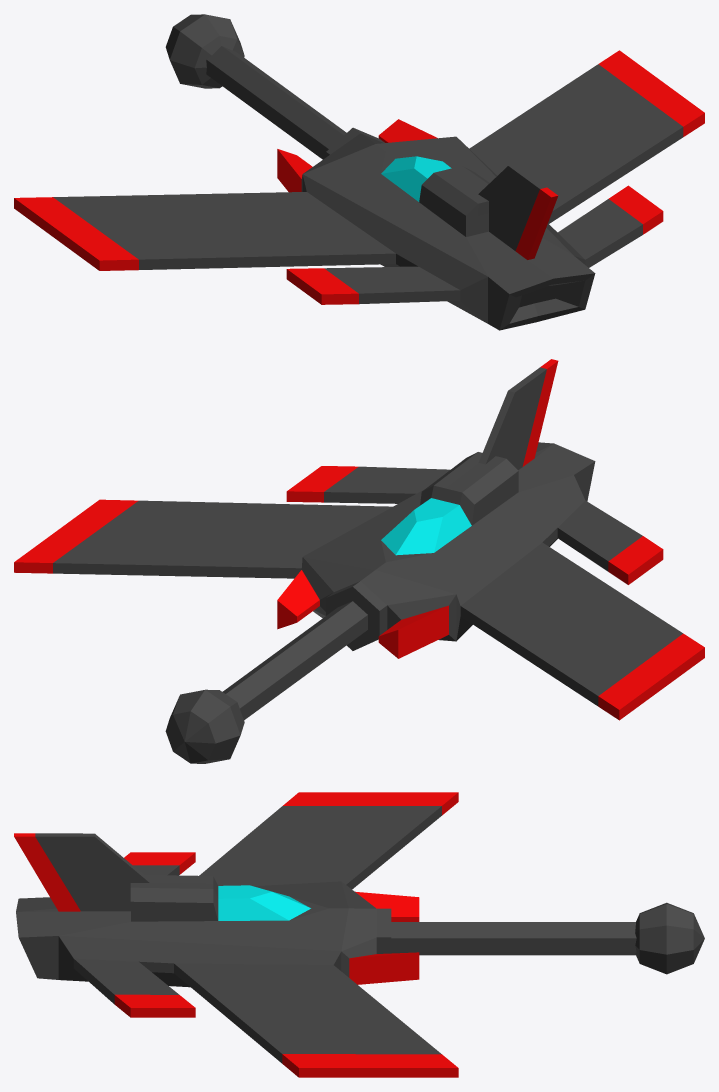
File: LaserJet.fbx
The picture shows the model from 3 angles, top to bottom: view 1: azimuth 30°, elevation 25°; view 2: azimuth 150°, elevation 25°; view 3: azimuth 270°, elevation 25°; orthographic projection. The views are drawn at different scales.
Visible parts, largest first — view 1: Cylinder; view 2: Cylinder; view 3: Cylinder.
Part boxes in pixels (<box>): Cylinder: <box>14,14,704,330</box>; Cylinder: <box>14,359,704,763</box>; Cylinder: <box>14,792,704,1077</box>.
Bounding box in the file's own units: 12.68 × 13.43 × 2.96.
